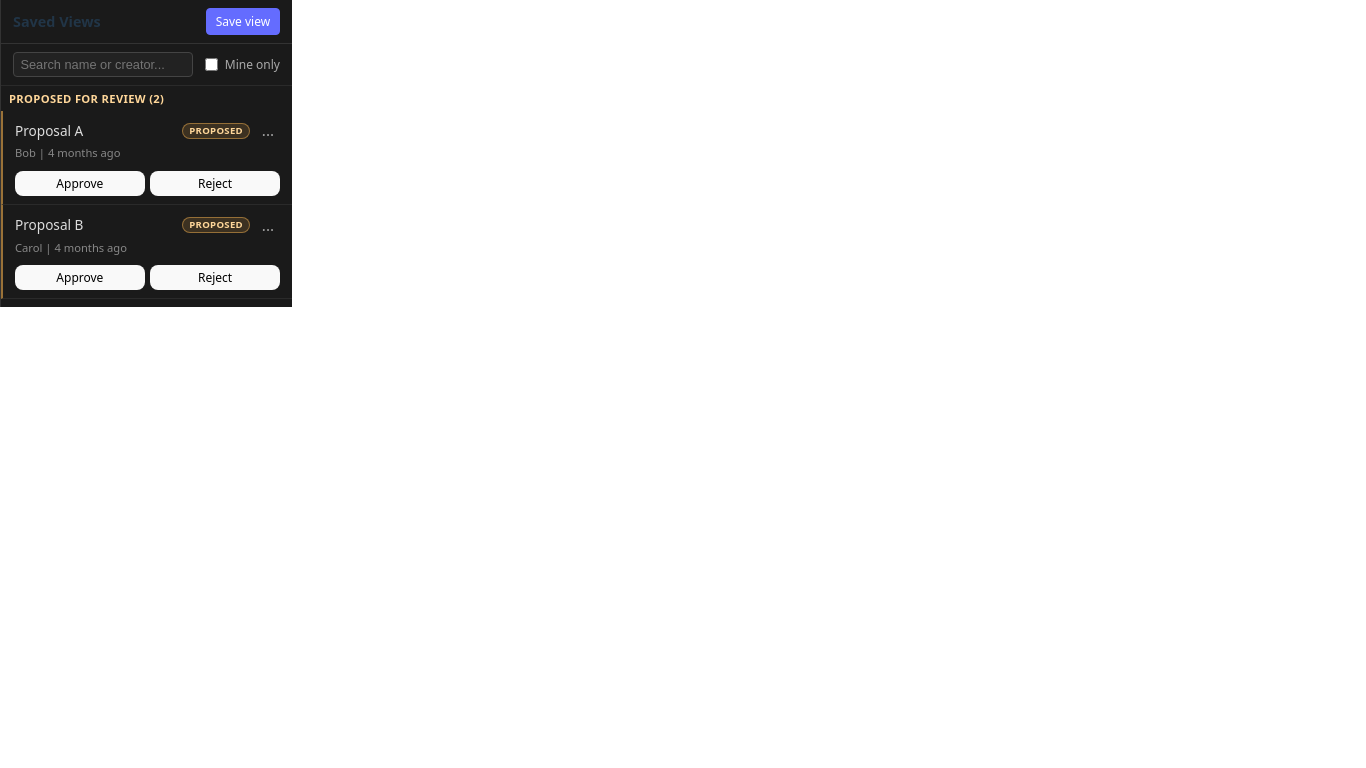
Test: WorkspaceSavedViewsSidebar — deferred reject (multi-undo) › rejecting A then B within the window leaves BOTH with a reachable Undo (stacked, not clobbered)
Reject A, then B, both within the cancelable window.
Click the button with test id "saved-view-reject-pa". click: x=215, y=184
box: [150,171,280,196]
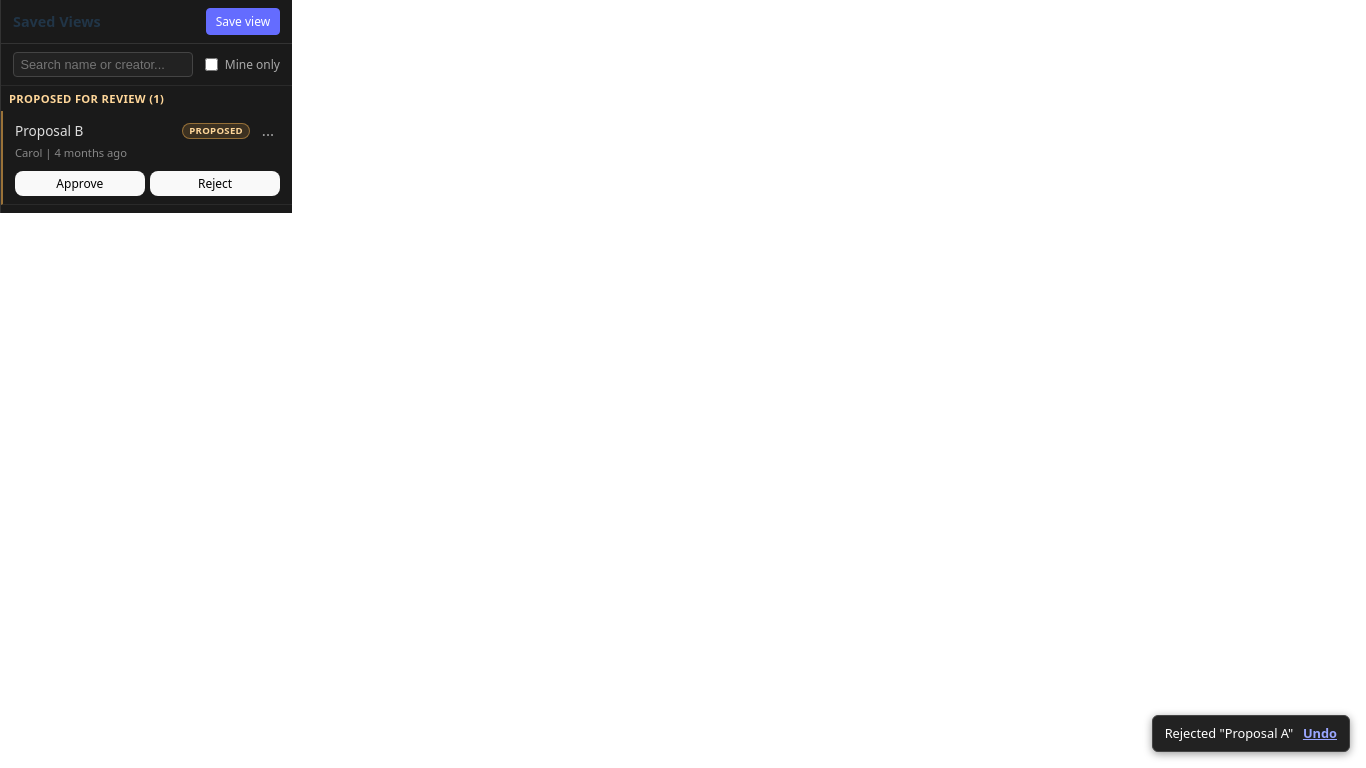
Click the button with test id "saved-view-reject-pb". click: x=215, y=184
box: [150,171,280,196]
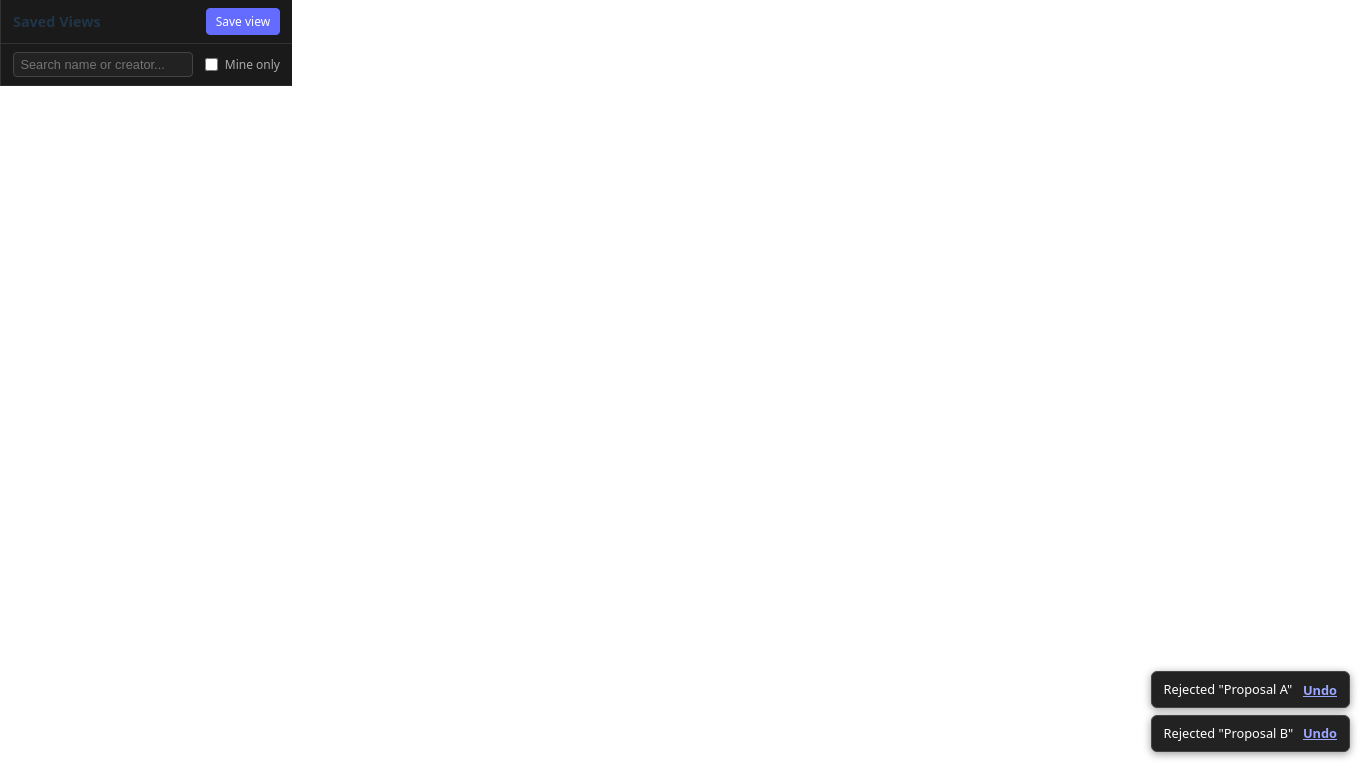
Now the message "Rejected \"Proposal A\" Undo" is shown, box [1151,671,1350,708]
Now the number of messages with test id "saved-view-toast" is 2, box [1151,671,1350,708]; [1151,715,1350,752]
Now the message "Rejected \"Proposal B\" Undo" is shown, box [1151,715,1350,752]
